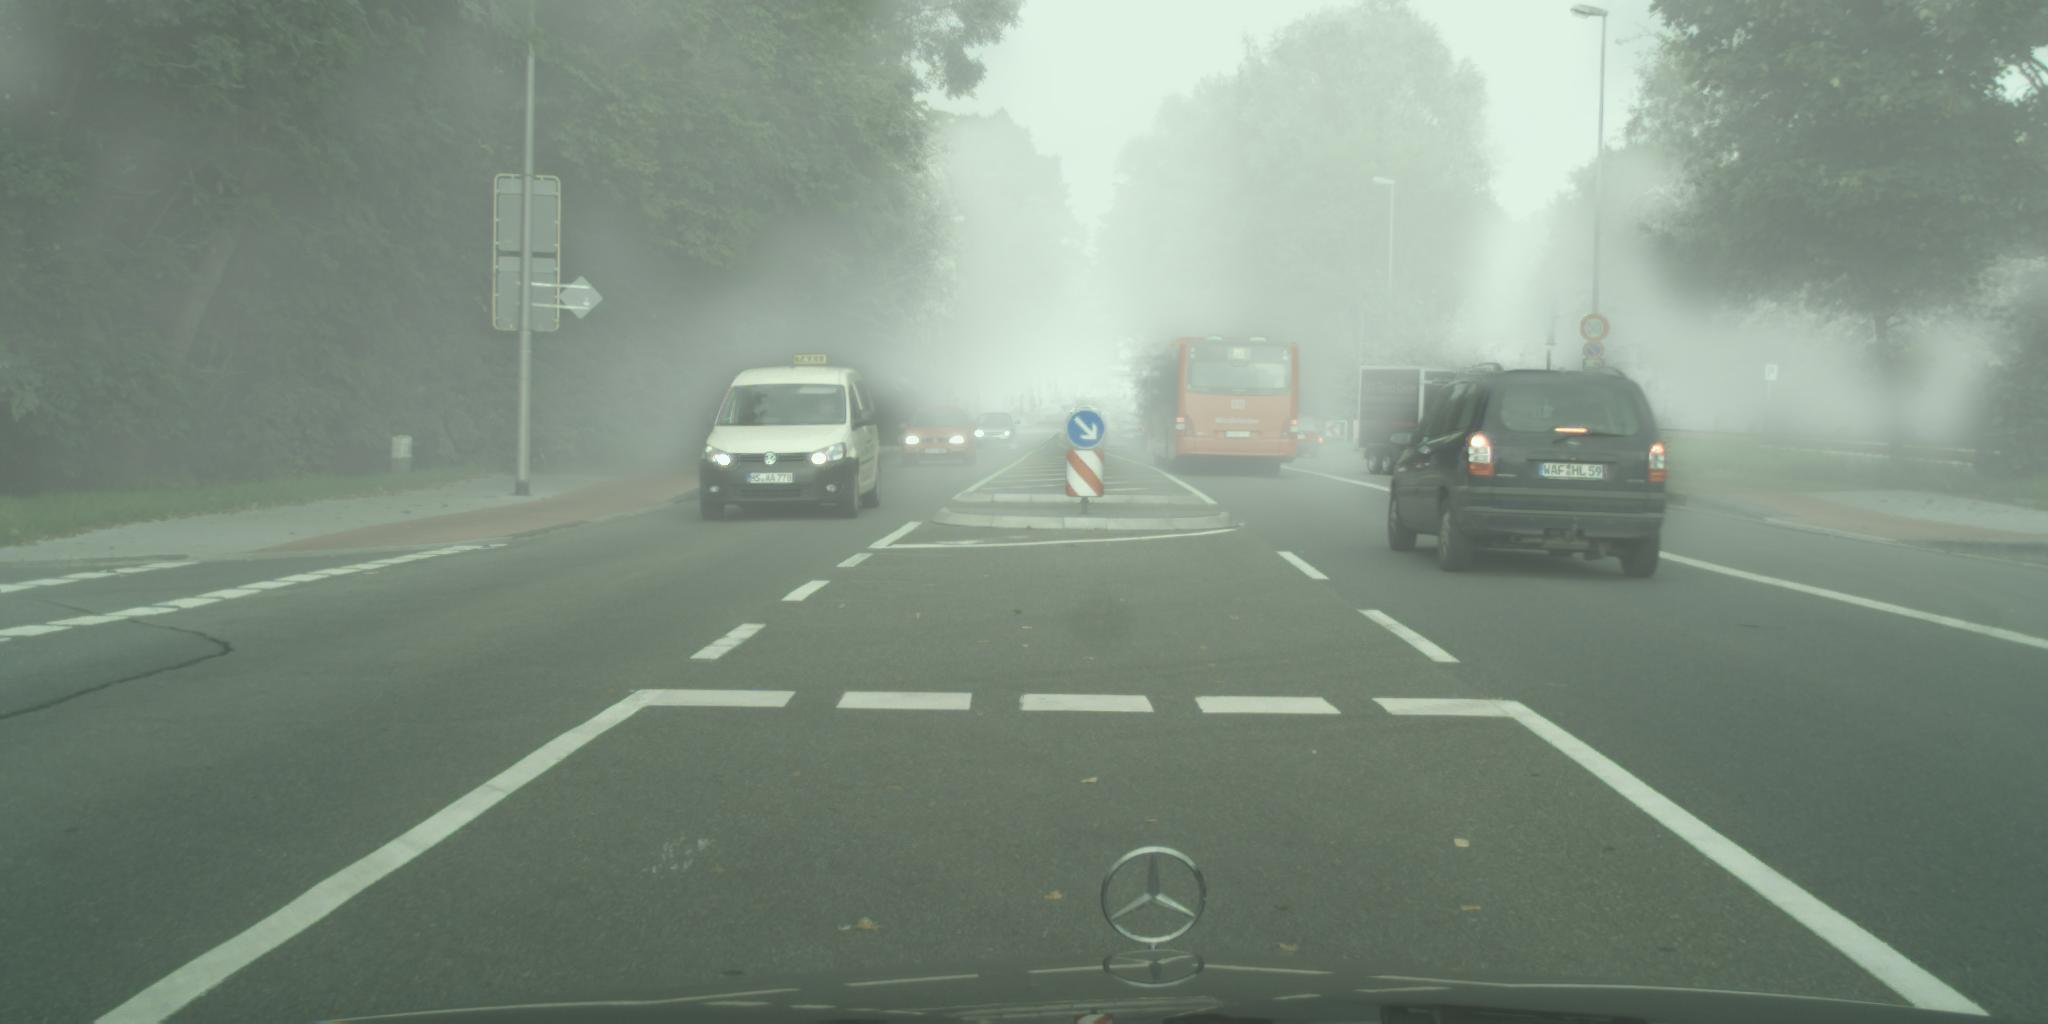bus: (1138, 336, 1300, 478)
car: (1388, 363, 1671, 580), (699, 354, 882, 521), (899, 408, 981, 469), (1098, 413, 1149, 452), (970, 413, 1023, 451), (1293, 415, 1323, 461), (1108, 397, 1121, 410), (1115, 391, 1127, 401)
truck: (1108, 379, 1121, 398)
